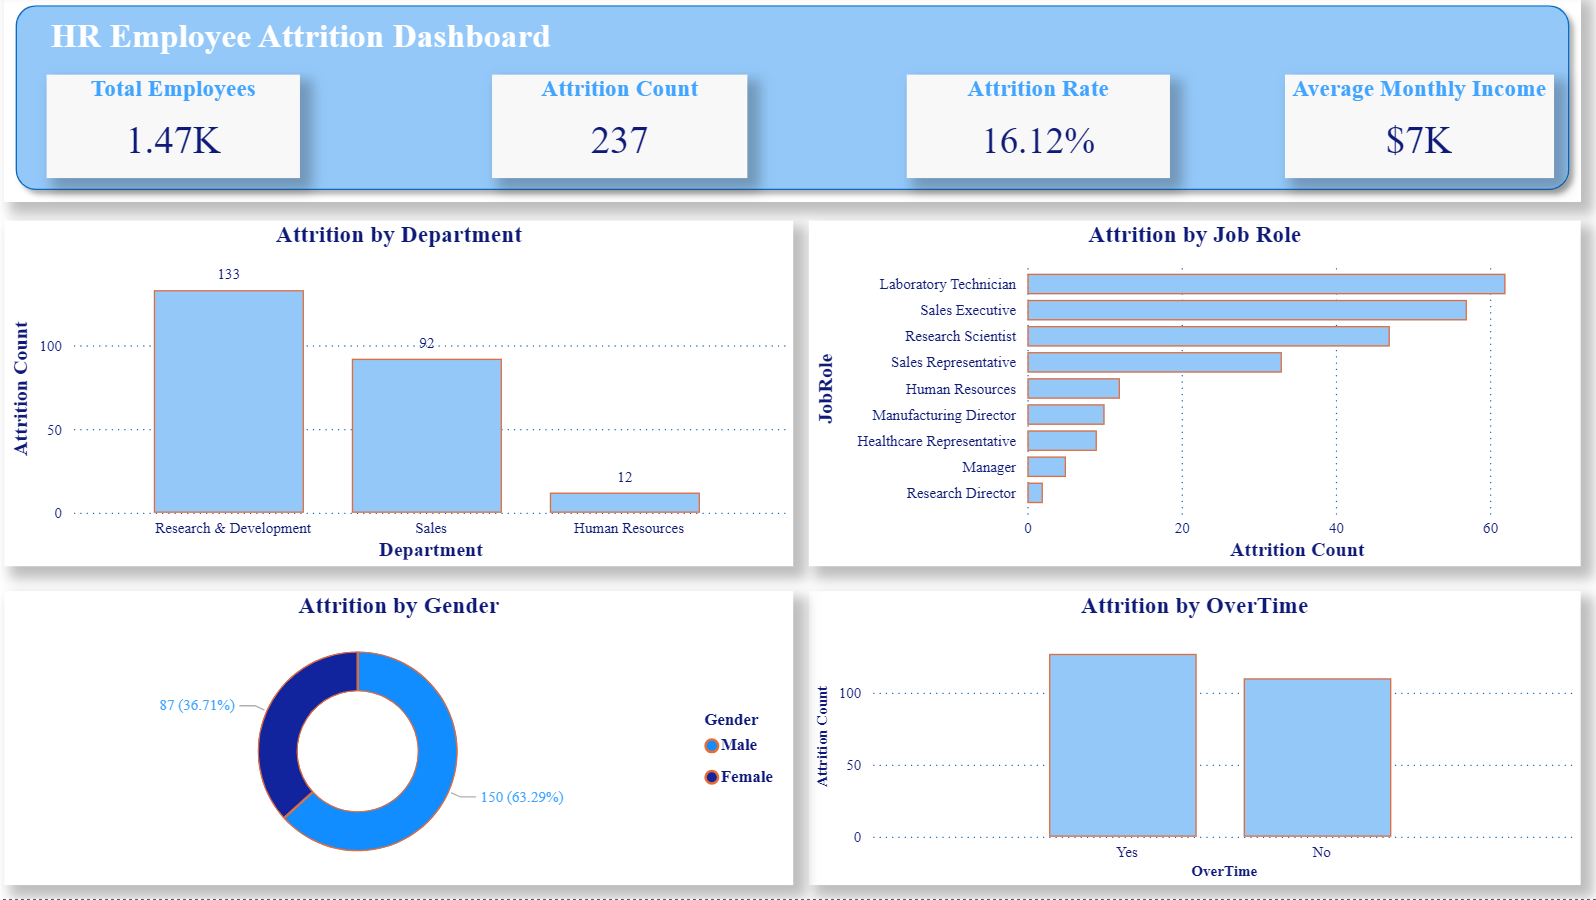

Layout of this report page (visuals, bound fields, positions):
{"tool":"powerbi","page":{"name":"Page 1","canvas":[1280,720],"ordinal":0},"visuals":[{"type":"shape","box":[12.2,0,1254.1,165],"z":500},{"type":"cardVisual","title":"Total Employees","fields":{"Data":["CountNonNull(HR-Employee-Attrition.EmployeeCount)"]},"box":[45.8,64.2,201.6,82.5],"z":1000},{"type":"cardVisual","title":"Attrition Count","fields":{"Data":["HR-Employee-Attrition.Attrition Count"]},"box":[400.2,64.2,203.2,82.5],"z":2000},{"type":"cardVisual","title":"Attrition Rate","fields":{"Data":["HR-Employee-Attrition.Attrition Rate"]},"box":[730.1,64.2,209.3,82.5],"z":3000},{"type":"clusteredColumnChart","title":"Attrition by Department","fields":{"Category":["HR-Employee-Attrition.Department"],"Y":["HR-Employee-Attrition.Attrition Count"]},"box":[12.2,180.2,627.8,275],"z":4000},{"type":"clusteredBarChart","title":"Attrition by Job Role","fields":{"Category":["HR-Employee-Attrition.JobRole"],"Y":["HR-Employee-Attrition.Attrition Count"]},"box":[652.2,180.2,614.1,275],"z":5000},{"type":"columnChart","title":"Attrition by OverTime","fields":{"Category":["HR-Employee-Attrition.OverTime"],"Y":["HR-Employee-Attrition.Attrition Count"]},"box":[652.2,475.1,614.1,233.7],"z":6000},{"type":"donutChart","title":"Attrition by Gender","fields":{"Category":["HR-Employee-Attrition.Gender"],"Y":["HR-Employee-Attrition.Attrition Count"]},"box":[12.2,475.1,627.8,233.7],"z":7000},{"type":"cardVisual","title":"Average Monthly Income","fields":{"Data":["HR-Employee-Attrition.Average Monthly Income"]},"box":[1031.1,64.2,213.9,82.5],"z":10000},{"type":"textbox","box":[19.9,12.2,456.7,51.9],"z":11000}]}

Visuals, with their boxes in screenshot pixels (x1, y1, x2, y2), scaled from the page's 1280x720 canvas onto the 1596x900 screenshot:
shape: [15,0,1579,206]
"Total Employees" cardVisual: [57,80,308,183]
"Attrition Count" cardVisual: [499,80,752,183]
"Attrition Rate" cardVisual: [910,80,1171,183]
"Attrition by Department" clusteredColumnChart: [15,225,798,569]
"Attrition by Job Role" clusteredBarChart: [813,225,1579,569]
"Attrition by OverTime" columnChart: [813,594,1579,886]
"Attrition by Gender" donutChart: [15,594,798,886]
"Average Monthly Income" cardVisual: [1286,80,1552,183]
textbox: [25,15,594,80]
